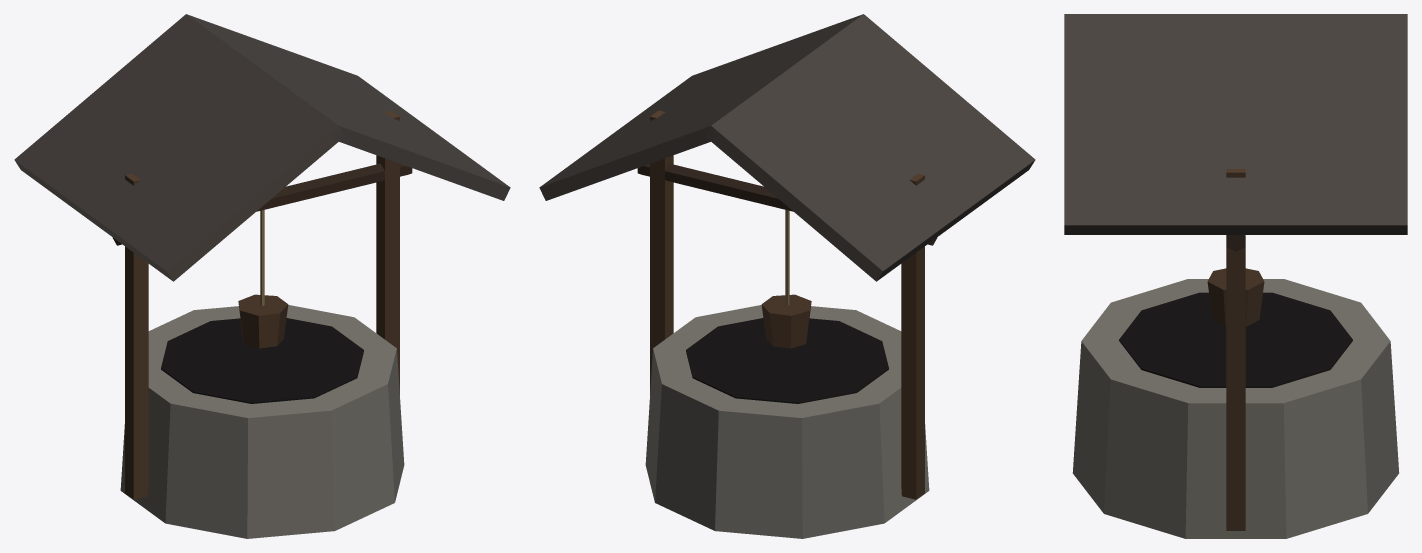
File: well.glb
3 renders of one model, left to right at view 1: azimuth 30°, elevation 25°; view 2: azimuth 150°, elevation 25°; view 3: azimuth 270°, elevation 25°, orthographic. The views are drawn at different scales.
Parts seen in each view (by area): view 1: well; view 2: well; view 3: well.
Boxes of the visible parts, <box> form: well: <box>14,14,510,538</box>; well: <box>539,14,1035,538</box>; well: <box>1064,14,1407,538</box>.
Bounding box in the file's own units: 2.6 × 2.95 × 2.
Materials: 1 (1 with a texture image).
